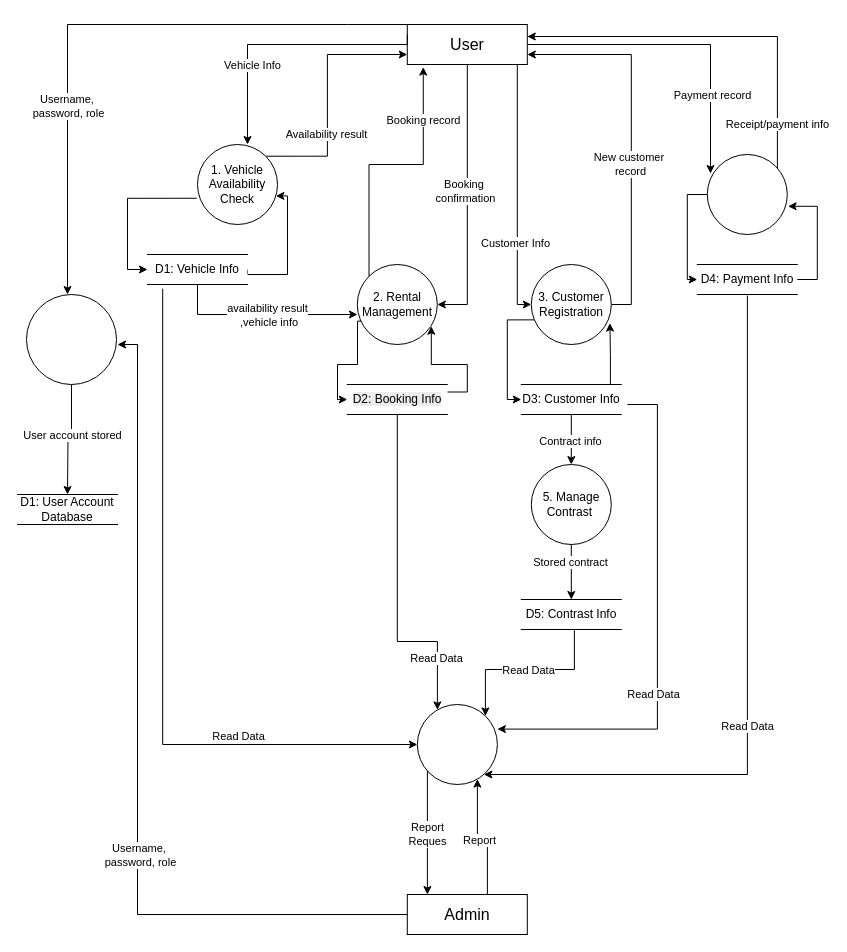
This 847x952 diagram has some shape labels left out. The centre of each missing label's shape, as x and y in pixels:
1. User Registration & Authentication: (71,339)
4. Payment Processing: (746,194)
7. Report Generation: (456,744)
